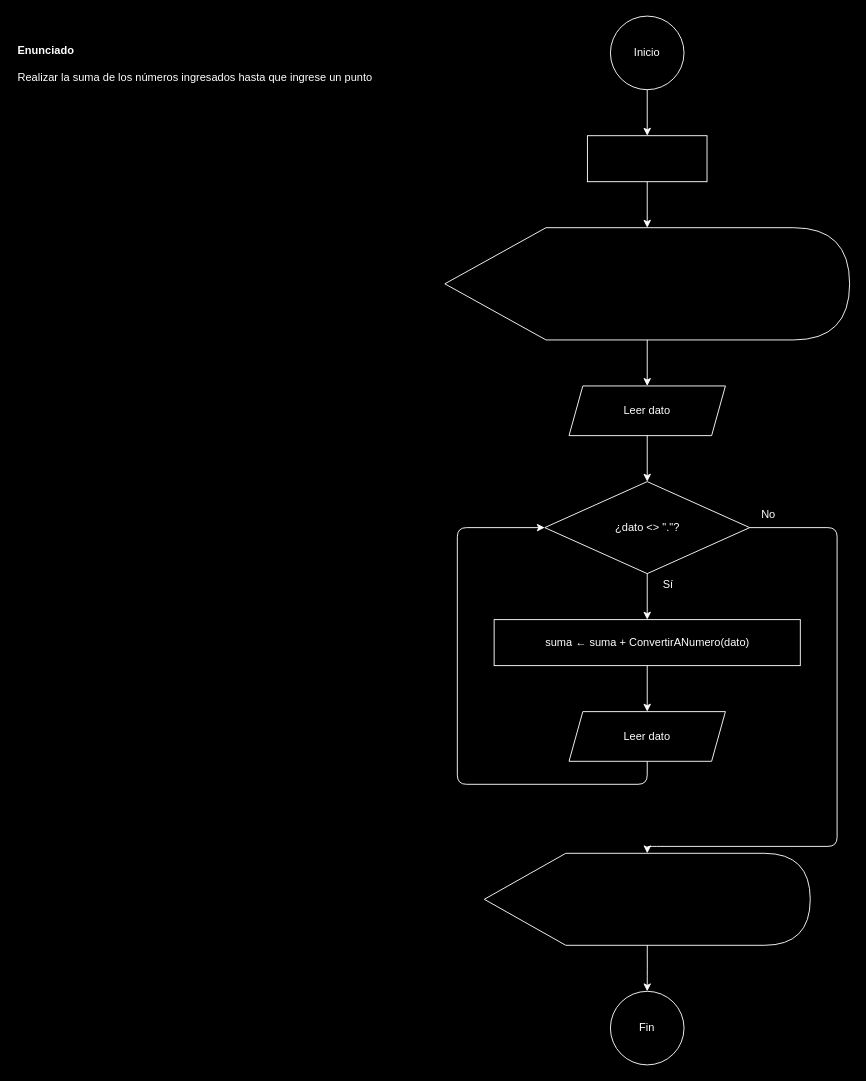
This 866x1081 diagram has some shape labels left out. Each missing label, with the centre of its shape:
Escribir "Ingrese números (. para terminar):": point (647, 283)
Escribir "La suma es: ", suma: point (646, 898)
suma ← 0: point (646, 158)
